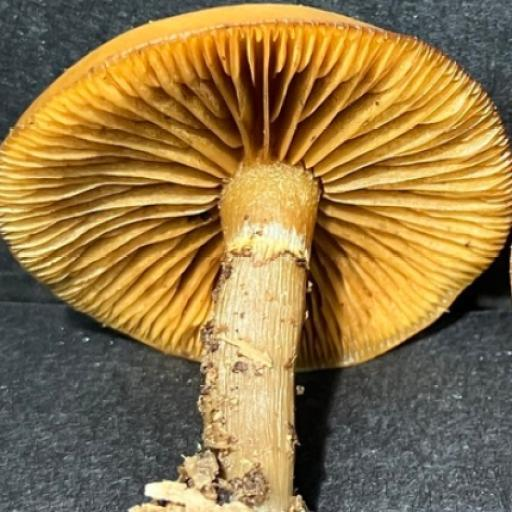mushroom: (7, 1, 508, 451)
